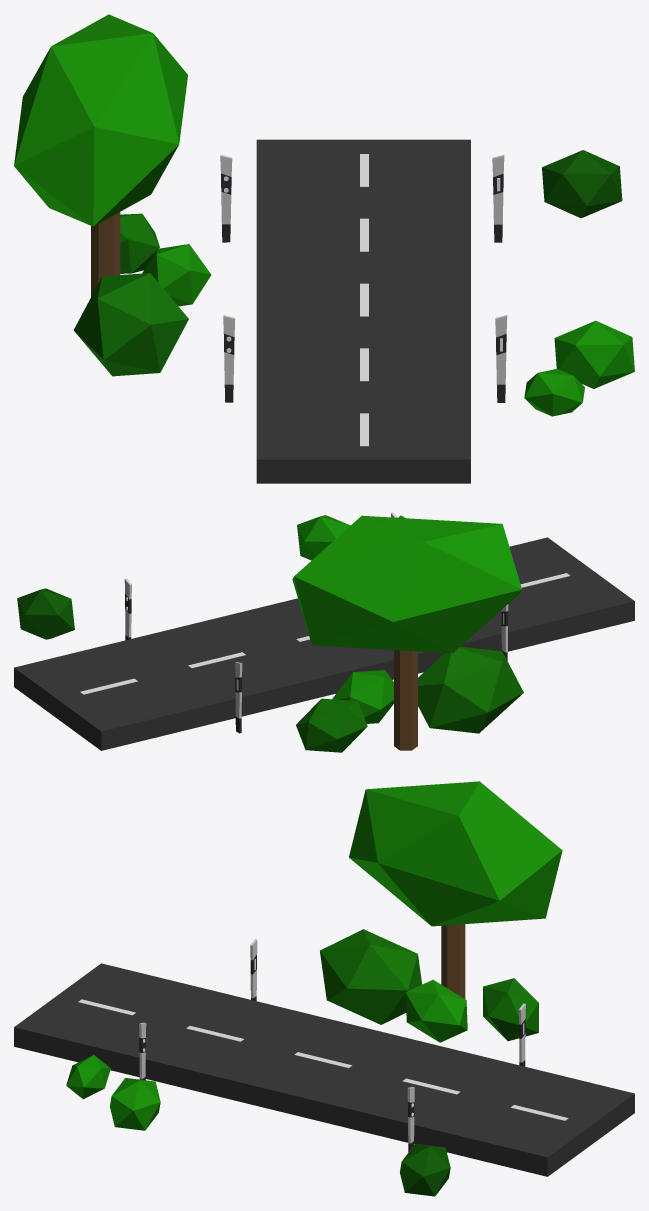
File: street2_03_1.fbx
3 views of the same model, one above another, from view 1: azimuth 30°, elevation 25°; view 2: azimuth 150°, elevation 25°; view 3: azimuth 270°, elevation 25° (orthographic). The views are drawn at different scales.
Parts seen in each view (by area): view 1: street03.001, bigTree, bush.033, bush.037, bush.036, bush.038, bush.035, bush.034, penguin.015, penguin.014, laneMarkings.001; view 2: street03.001, bigTree, bush.033, bush.034, bush.037, bush.038, bush.036, penguin.015, laneMarkings.001, penguin.014; view 3: street03.001, bigTree, bush.033, bush.038, bush.034, bush.037, bush.036, bush.035, laneMarkings.001, penguin.015, penguin.014.
Boxes of the visible parts, bbox=[...] form: street03.001: bbox=[256, 139, 470, 483]; bigTree: bbox=[14, 14, 187, 296]; bush.033: bbox=[73, 273, 188, 376]; bush.037: bbox=[542, 150, 622, 218]; bush.036: bbox=[554, 320, 634, 388]; bush.038: bbox=[142, 244, 211, 306]; bush.035: bbox=[524, 369, 584, 416]; bush.034: bbox=[120, 213, 159, 273]; penguin.015: bbox=[220, 154, 235, 402]; penguin.014: bbox=[492, 155, 507, 402]; laneMarkings.001: bbox=[360, 154, 368, 446]; street03.001: bbox=[14, 537, 634, 750]; bigTree: bbox=[292, 515, 521, 750]; bush.033: bbox=[418, 646, 523, 733]; bush.034: bbox=[296, 698, 367, 752]; bush.037: bbox=[17, 588, 74, 639]; bush.038: bbox=[332, 670, 393, 723]; bush.036: bbox=[297, 515, 350, 560]; penguin.015: bbox=[235, 604, 508, 733]; laneMarkings.001: bbox=[80, 573, 570, 694]; penguin.014: bbox=[124, 512, 397, 640]; street03.001: bbox=[14, 963, 634, 1176]; bigTree: bbox=[349, 781, 562, 998]; bush.033: bbox=[320, 929, 422, 1024]; bush.038: bbox=[405, 979, 467, 1042]; bush.034: bbox=[483, 978, 538, 1041]; bush.037: bbox=[400, 1143, 450, 1196]; bush.036: bbox=[110, 1078, 160, 1130]; bush.035: bbox=[66, 1055, 110, 1099]; laneMarkings.001: bbox=[78, 999, 568, 1120]; penguin.015: bbox=[250, 939, 525, 1066]; penguin.014: bbox=[139, 1022, 414, 1152].
Bounding box in the file's own units: 92.15 × 40.64 × 99.3.
